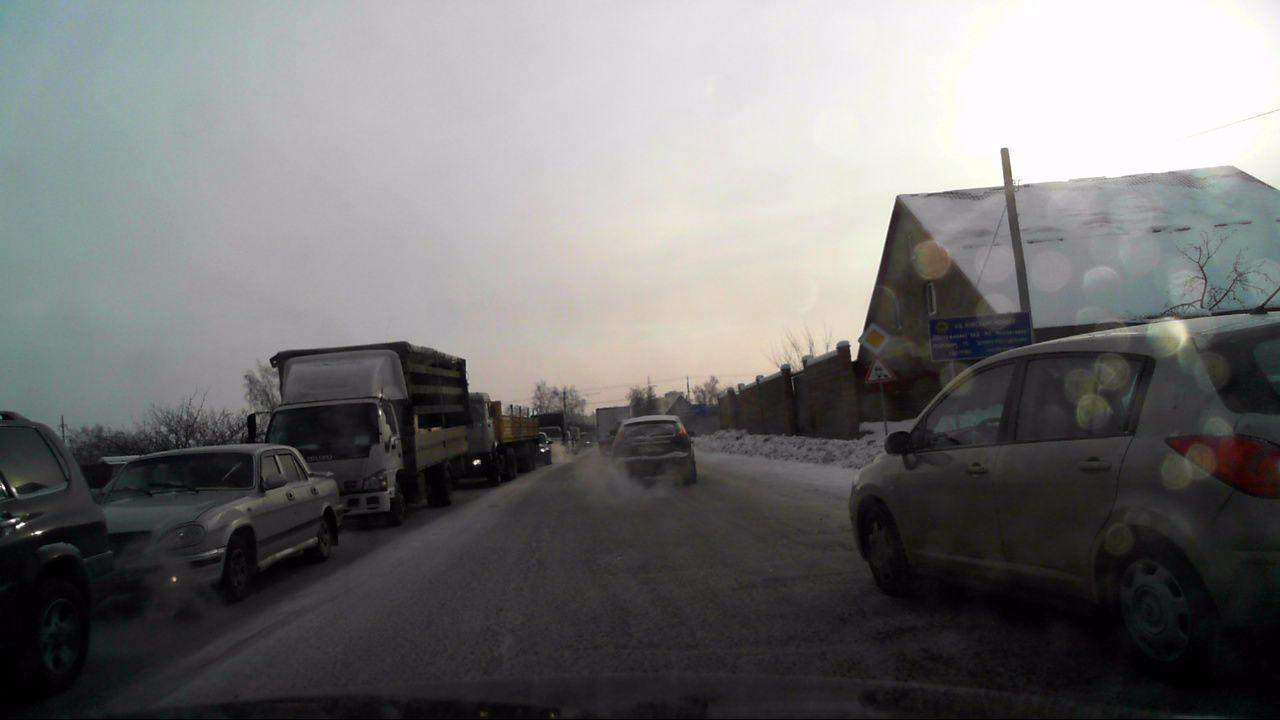1_15: (866, 356, 894, 384)
2_1: (858, 322, 890, 355)
6_10_1: (929, 311, 1034, 360), (676, 402, 708, 419)
